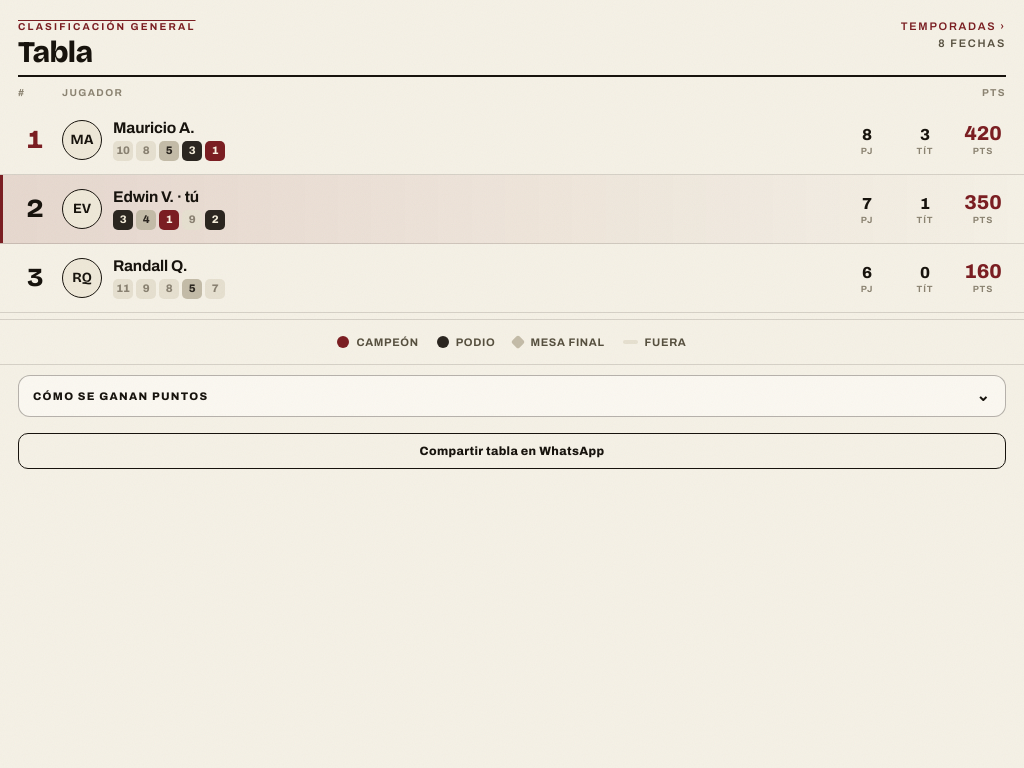
Leaderboard — admin "Compartir tabla en WhatsApp" › admin: the button opens a sheet with the top standings and the app link
Expected: the text "Mauricio A." is shown, [113, 119, 195, 136]
Click the button with test id "lb-share-whatsapp" at (512, 451), box [18, 433, 1006, 469]
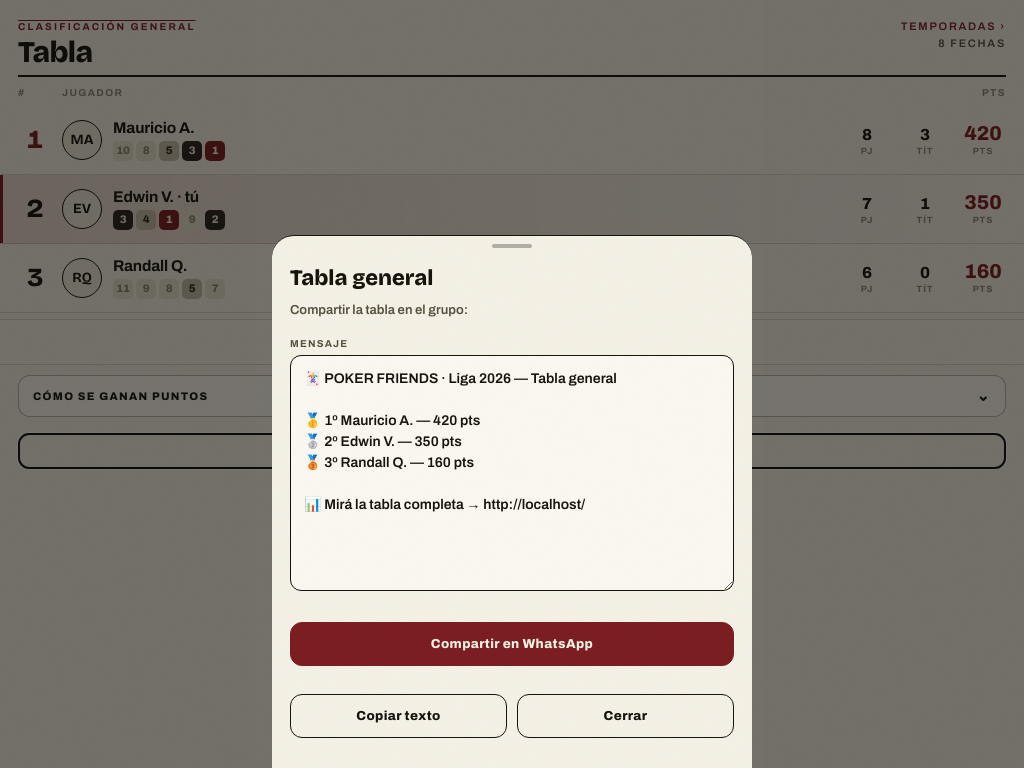
Result: the button with test id "tabla-whatsapp" is shown at [290, 622, 734, 666]
